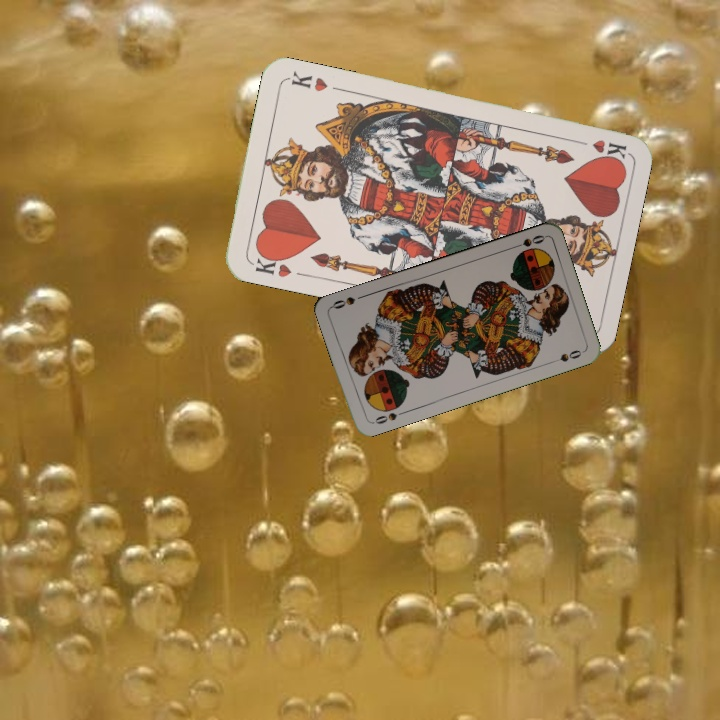HK: (569, 135, 629, 162), (247, 248, 294, 280)
SO: (507, 231, 547, 251), (367, 408, 400, 427)
